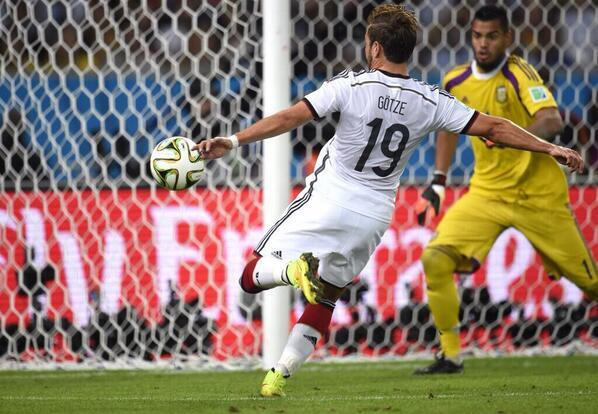football: (151, 135, 208, 192)
